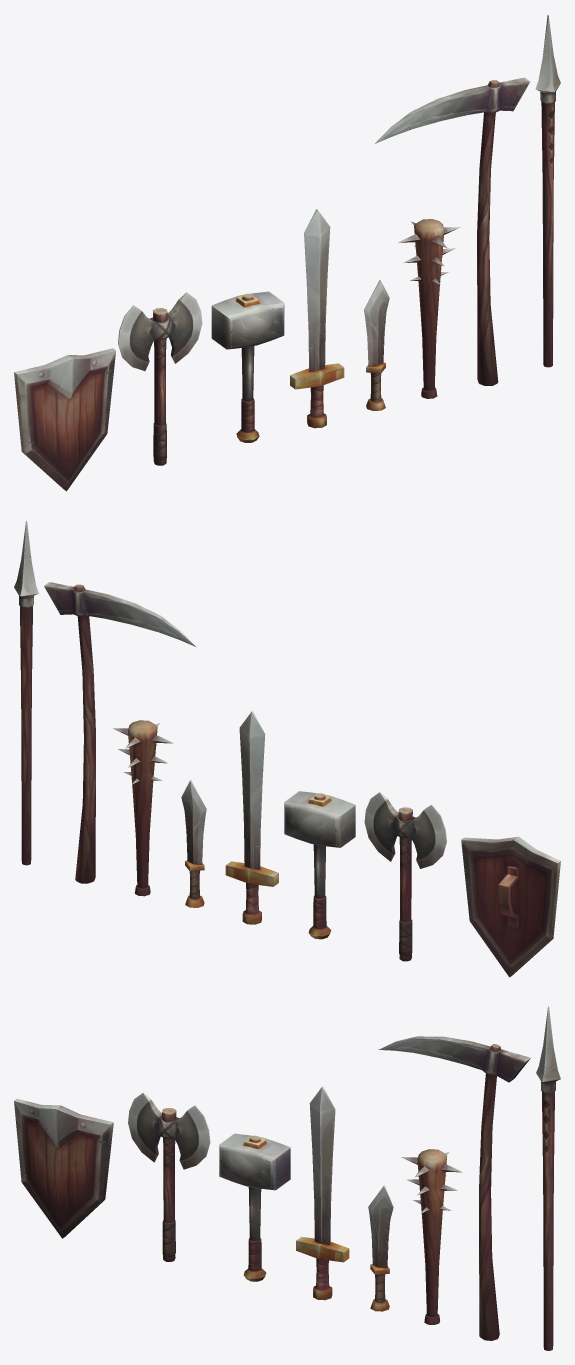
The picture shows the model from 3 angles, top to bottom: view 1: azimuth 30°, elevation 25°; view 2: azimuth 150°, elevation 25°; view 3: azimuth 330°, elevation 25°; orthographic projection. The views are drawn at different scales.
Visible parts, largest first — view 1: Shield, Scythe, Axe, Hammer, Sword, Spear, Club, Dagger; view 2: Shield, Scythe, Axe, Hammer, Sword, Spear, Club, Dagger; view 3: Shield, Scythe, Axe, Hammer, Sword, Spear, Club, Dagger.
Boxes of the visible parts, x1=… form: Shield: x1=14, y1=348, x2=115, y2=491; Scythe: x1=375, y1=77, x2=530, y2=385; Axe: x1=118, y1=292, x2=202, y2=465; Hammer: x1=211, y1=291, x2=284, y2=442; Sword: x1=290, y1=209, x2=344, y2=428; Spear: x1=535, y1=15, x2=560, y2=367; Club: x1=398, y1=219, x2=460, y2=398; Dagger: x1=364, y1=280, x2=389, y2=410; Shield: x1=461, y1=836, x2=560, y2=977; Scythe: x1=44, y1=582, x2=195, y2=883; Axe: x1=364, y1=792, x2=446, y2=961; Hammer: x1=284, y1=791, x2=355, y2=939; Sword: x1=225, y1=711, x2=278, y2=924; Spear: x1=14, y1=520, x2=38, y2=865; Club: x1=113, y1=720, x2=173, y2=896; Dagger: x1=181, y1=780, x2=206, y2=907; Shield: x1=14, y1=1098, x2=113, y2=1238; Scythe: x1=378, y1=1036, x2=530, y2=1340; Axe: x1=128, y1=1092, x2=210, y2=1261; Hammer: x1=219, y1=1133, x2=290, y2=1281; Sword: x1=296, y1=1086, x2=349, y2=1300; Spear: x1=536, y1=1006, x2=560, y2=1350; Club: x1=401, y1=1149, x2=462, y2=1324; Dagger: x1=368, y1=1185, x2=393, y2=1311.
Bounding box in the file's own units: 2.38 × 1.46 × 0.2736.
1 material, 1 textured.
